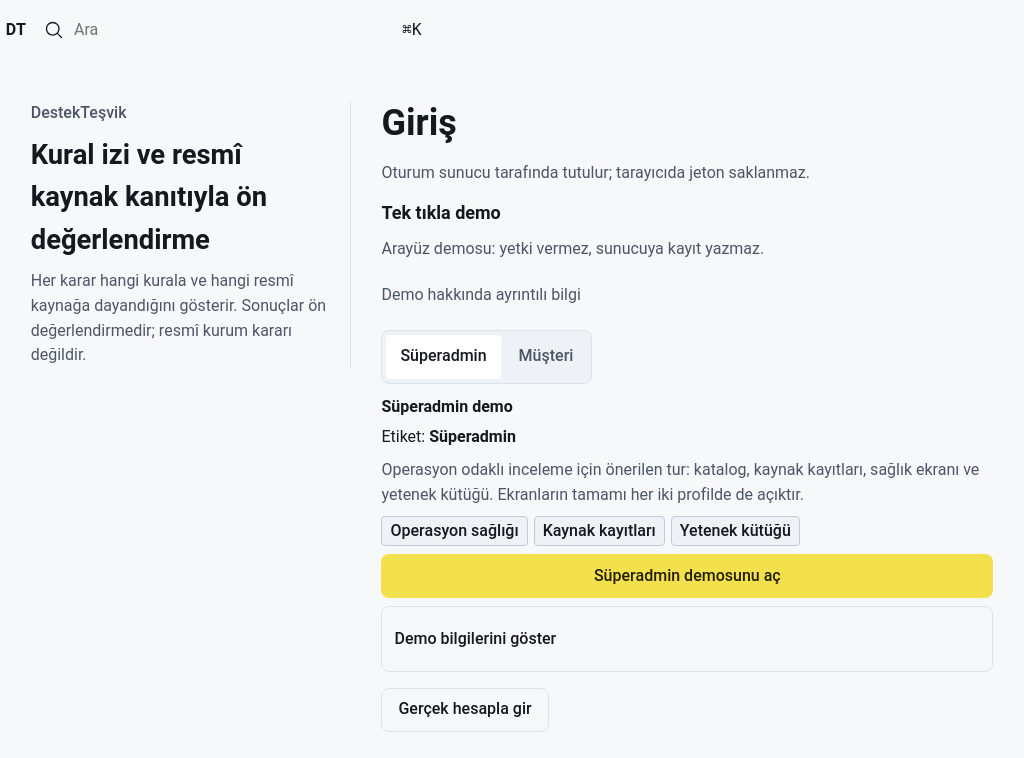
Scenario: the login screen offers two named demo profiles › previews only the selected profile, and switches when the role switch is used
The image size is (1024, 758).
expect the heading "Süperadmin demo" is shown: met, box [381,397,513,416]
expect the heading "Müşteri demo" is not shown: met
Click the button "Müşteri": click(546, 357) [505,335,587,379]
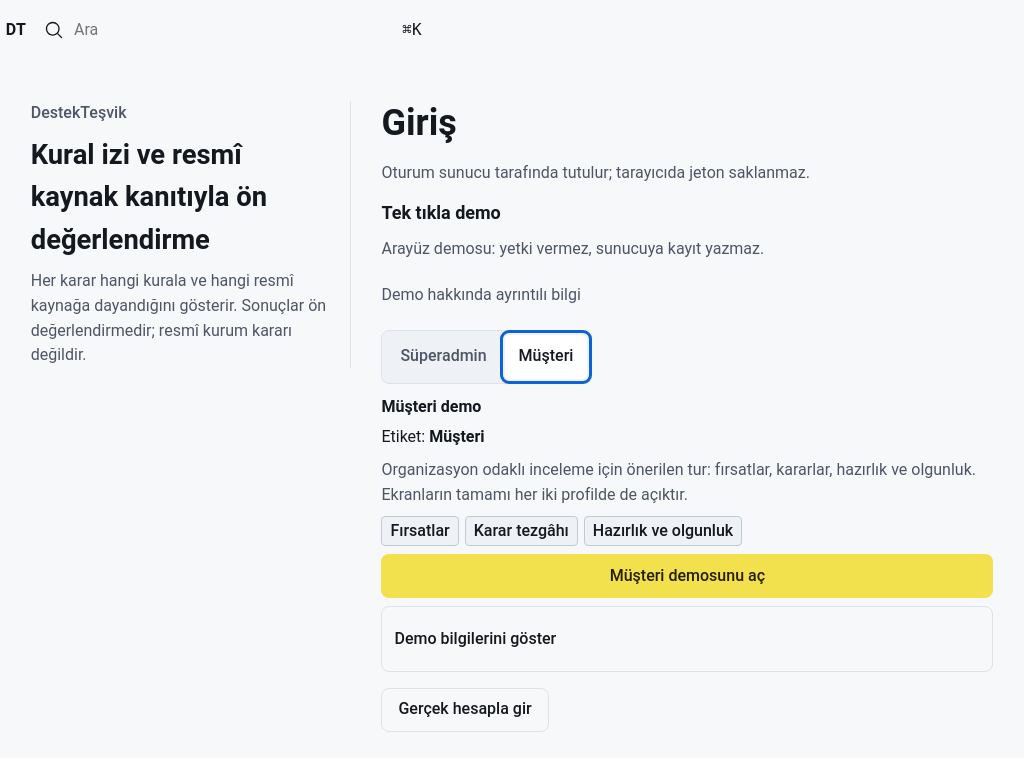
expect the heading "Müşteri demo" is shown: met, box [381,397,481,416]
expect the heading "Süperadmin demo" is gone: met
